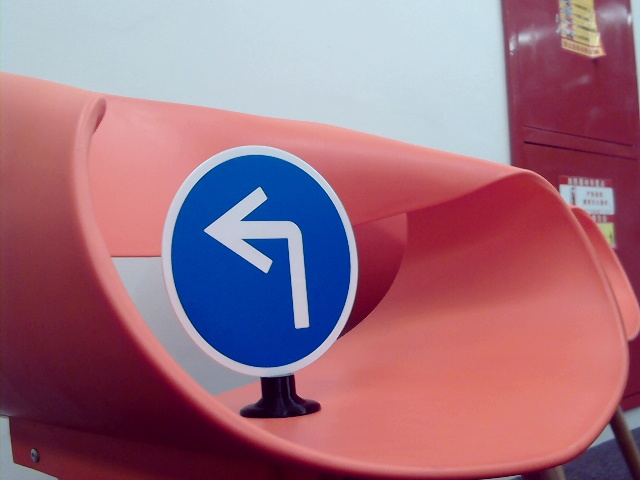turn_left: (203, 184, 316, 330)
